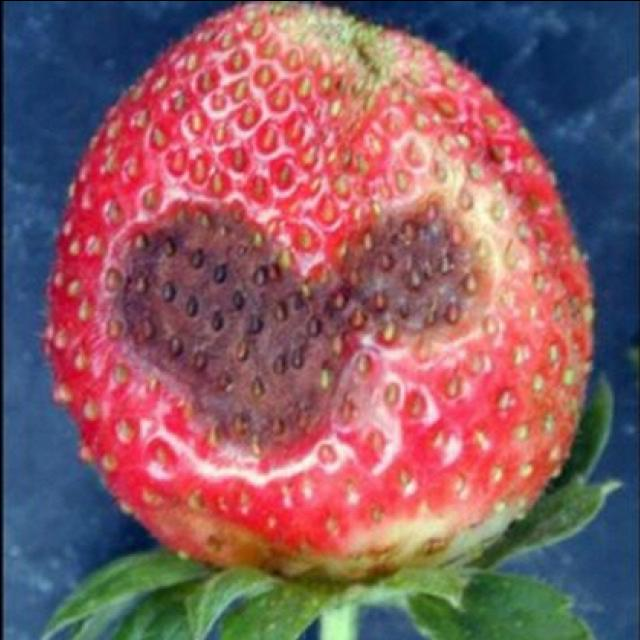Anthracnose Fruit Rot: (105, 194, 504, 466)
